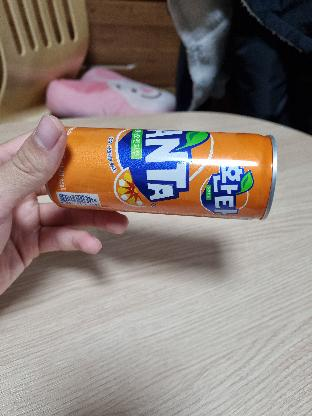Can: (48, 112, 280, 216)
